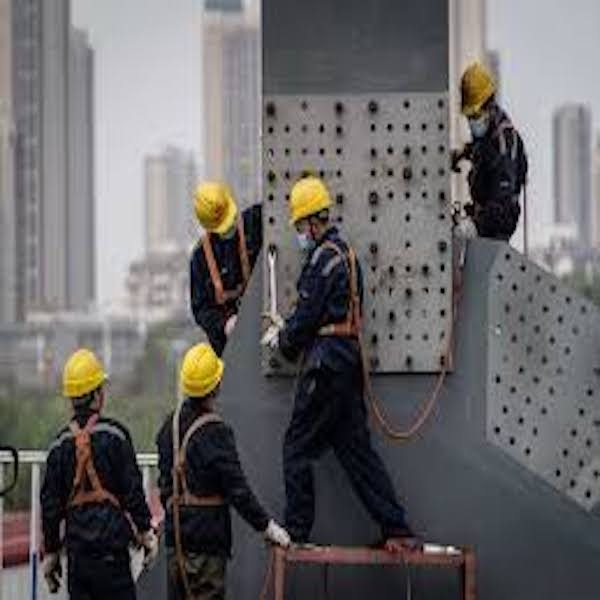helmet: (179, 338, 233, 401), (63, 346, 112, 401), (458, 61, 501, 116), (192, 181, 240, 229), (288, 177, 334, 222)
